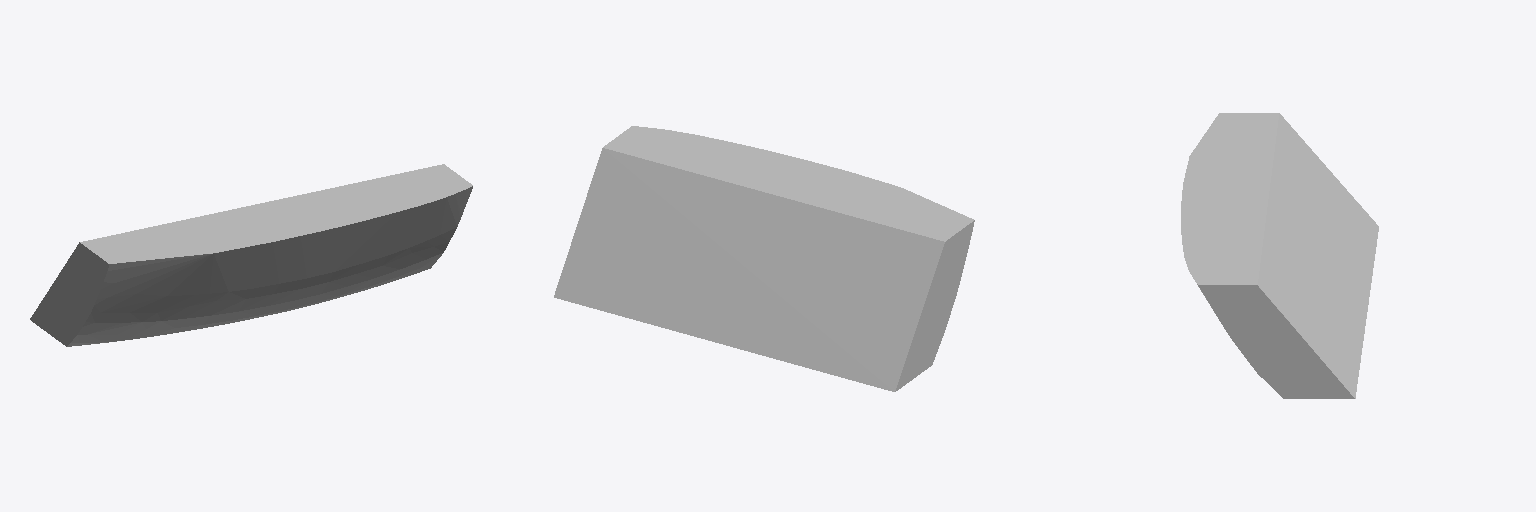
The model's file is pan_collision_19.obj.
3 renders of one model, left to right at view 1: azimuth 30°, elevation 25°; view 2: azimuth 150°, elevation 25°; view 3: azimuth 270°, elevation 25°, orthographic.
Bounding box in the file's own units: 0.054 × 0.0166 × 0.0262.